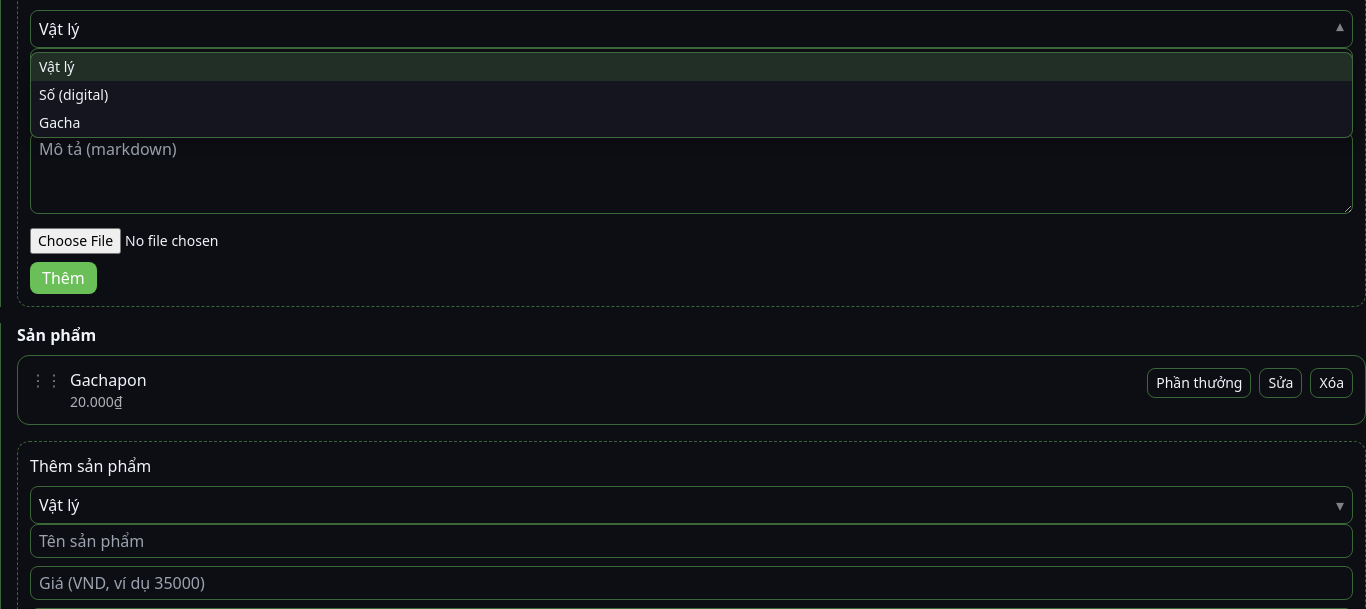
AdminProducts - gacha products › shows a prize toggle instead of the variant one, and expands into the prize editor
The image size is (1366, 609).
(page scrolled)
Step 1. Click the button "Phần thưởng" → (1199, 383), box [1147,368,1252,398]
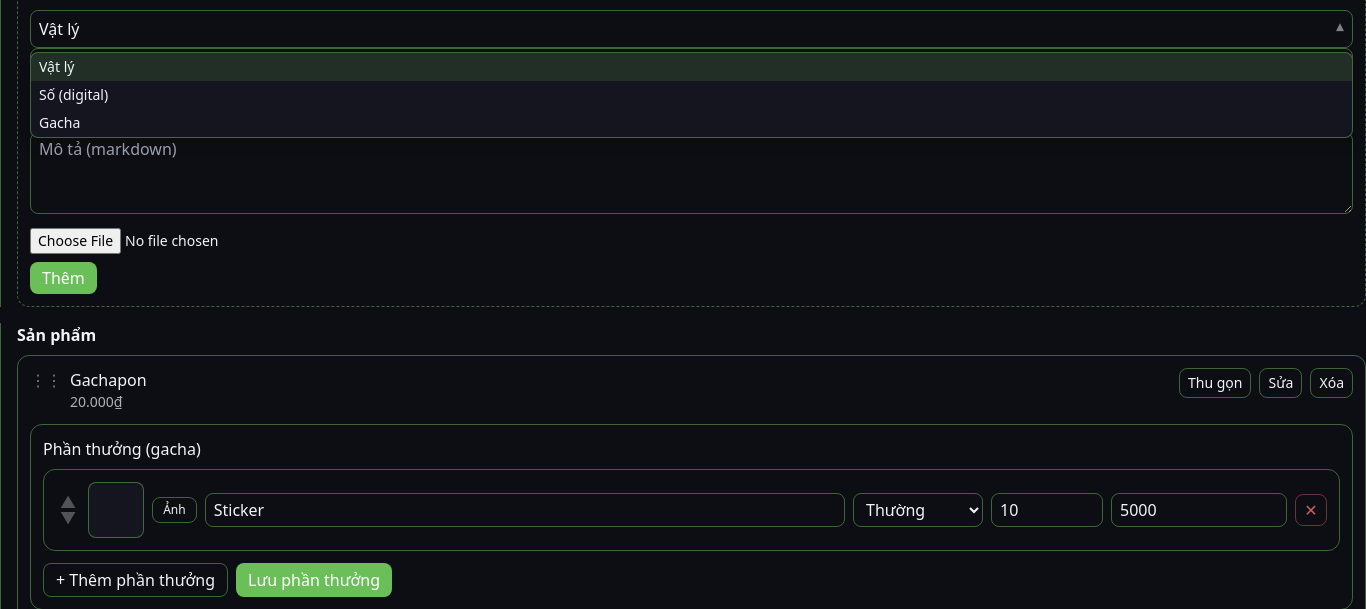
Check: the 1st field with placeholder "Tên phần thưởng" holds "Sticker", box [205,493,845,527]
